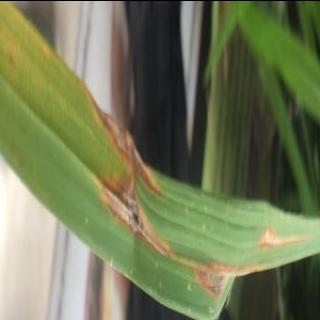Blast: (93, 109, 165, 255), (198, 262, 268, 300), (257, 222, 320, 250)
